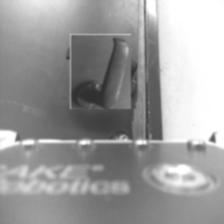Door Handle: (67, 38, 134, 105)
